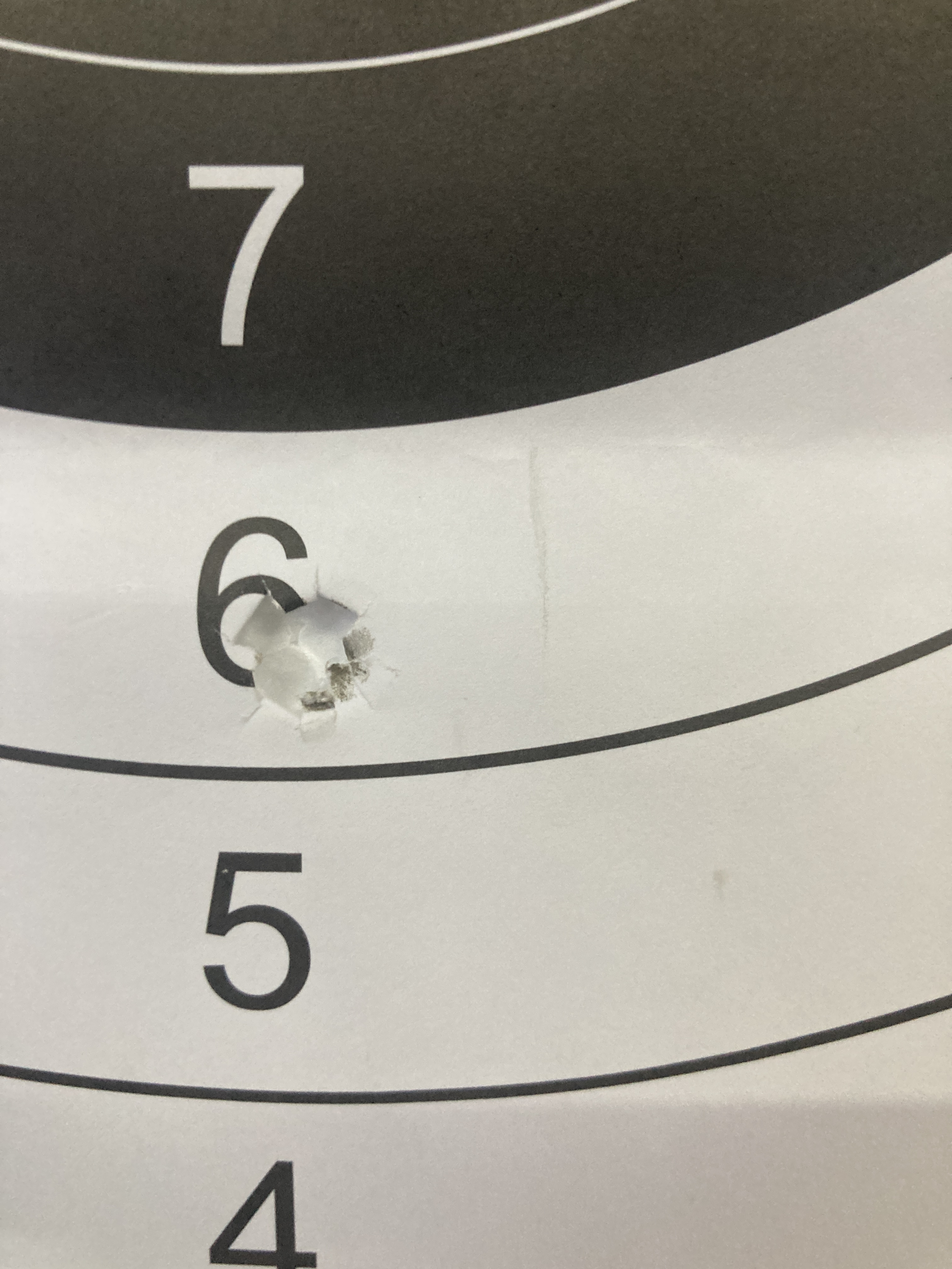hole: (233, 570, 400, 736)
